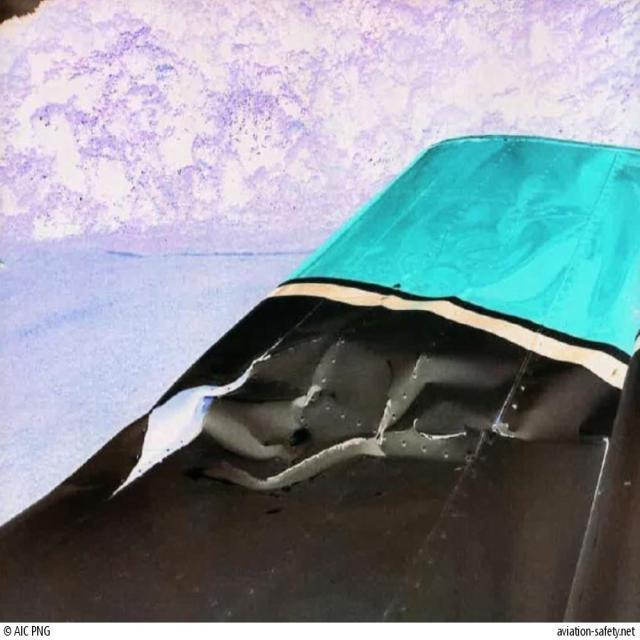crack: (271, 436, 370, 485), (364, 396, 396, 445), (418, 416, 458, 448), (405, 356, 435, 386)
